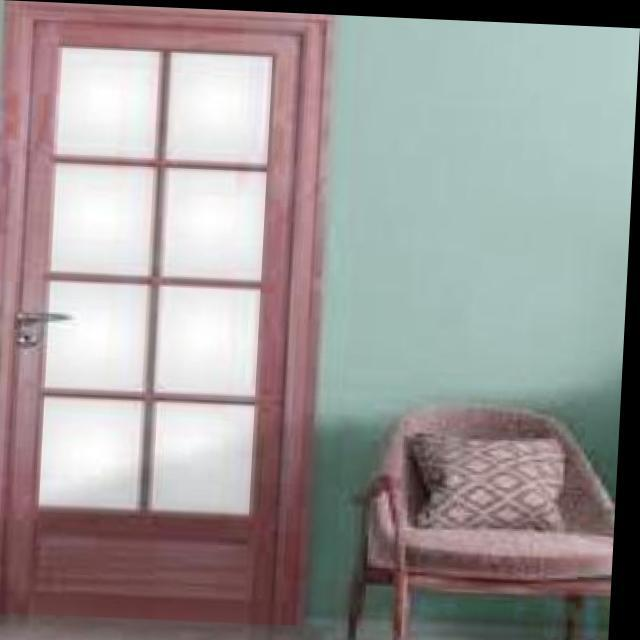door_handle: (7, 302, 78, 330)
